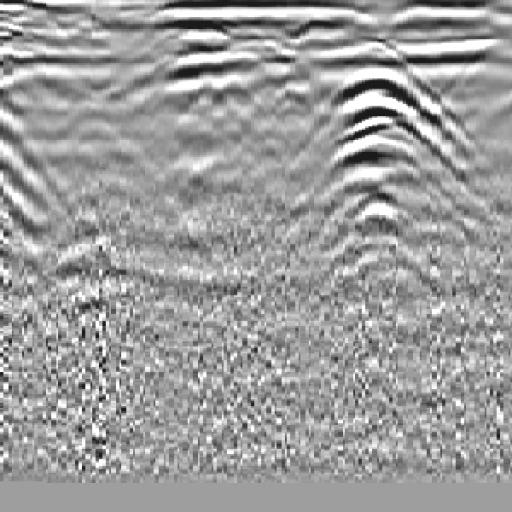metalic: (294, 51, 501, 261)
